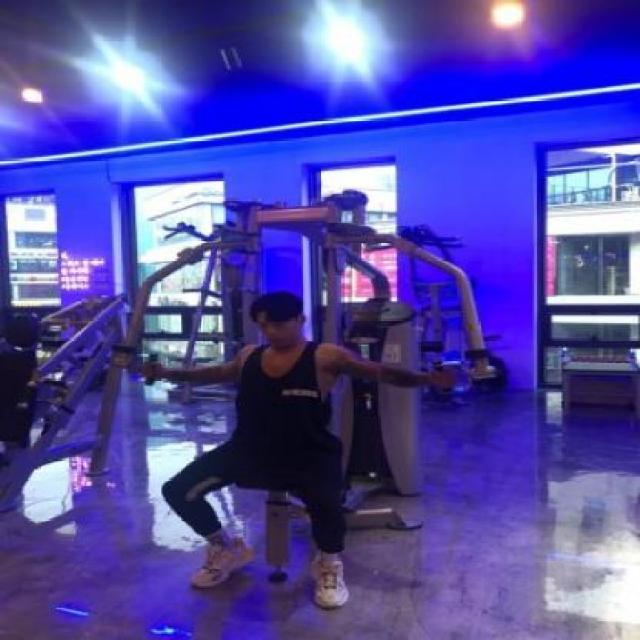chest fly machine: (92, 177, 522, 614)
